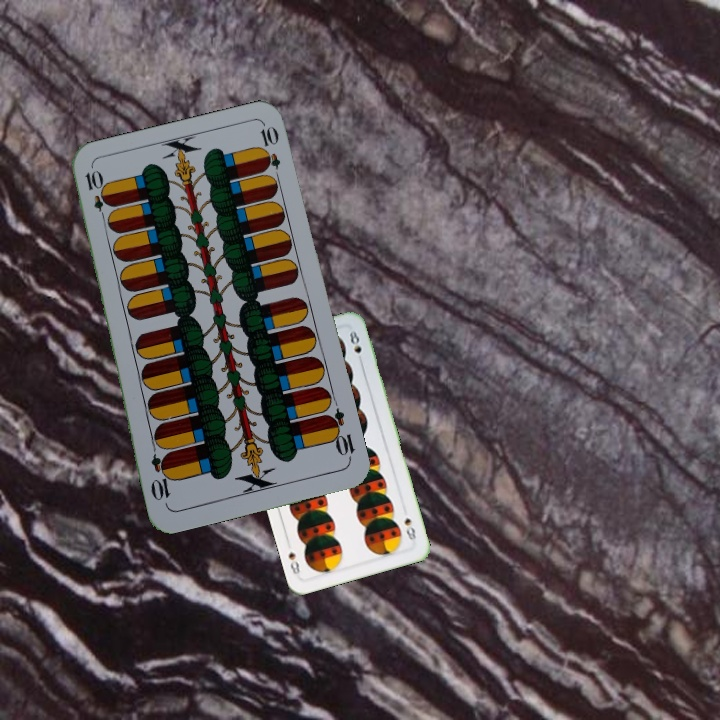E10: (322, 405, 357, 463), (81, 166, 111, 225)
S8: (400, 514, 419, 542)
